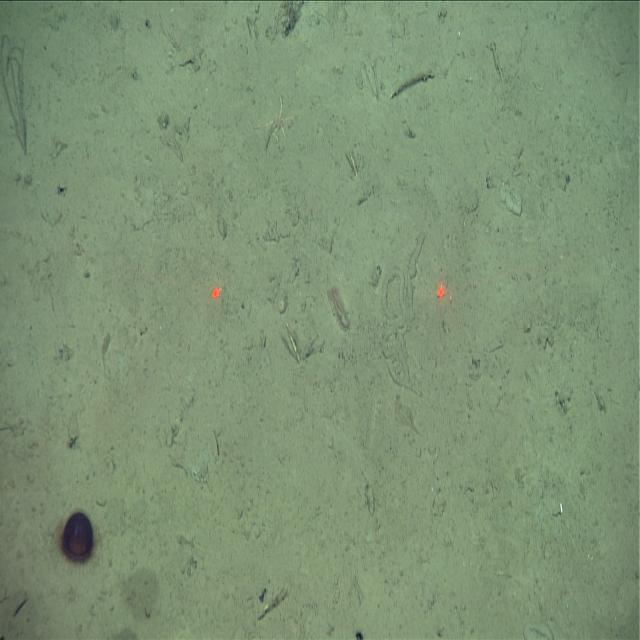Brittle Star: (263, 89, 300, 152)
Not Brittle Star: (324, 272, 355, 337)
